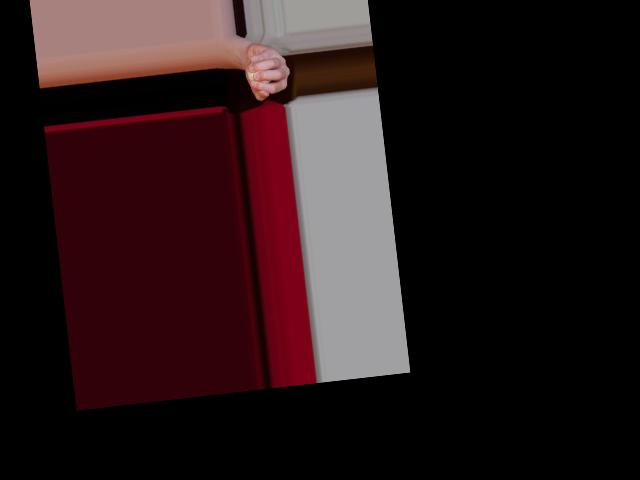egg: (246, 61, 272, 88)
